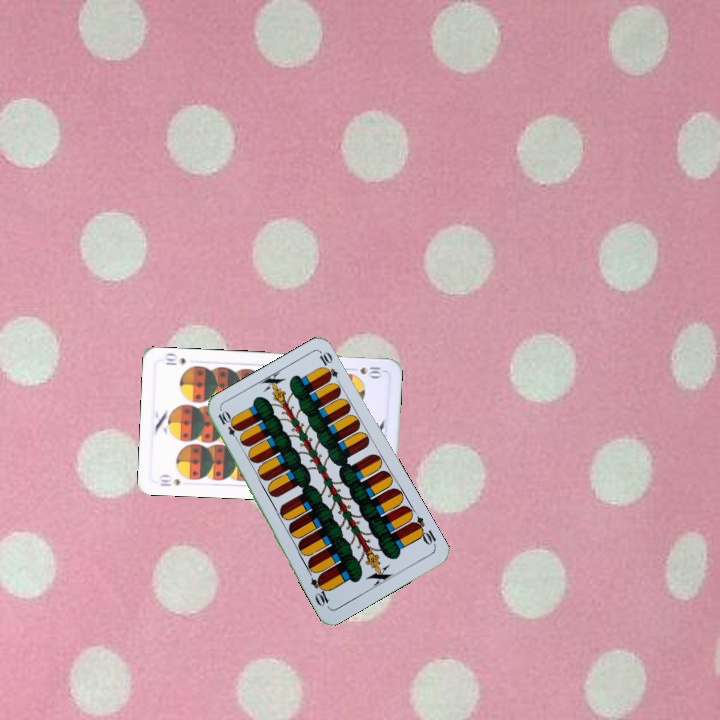E10: (408, 512, 439, 549), (214, 407, 243, 445)
S10: (155, 471, 183, 489), (356, 363, 384, 379)
